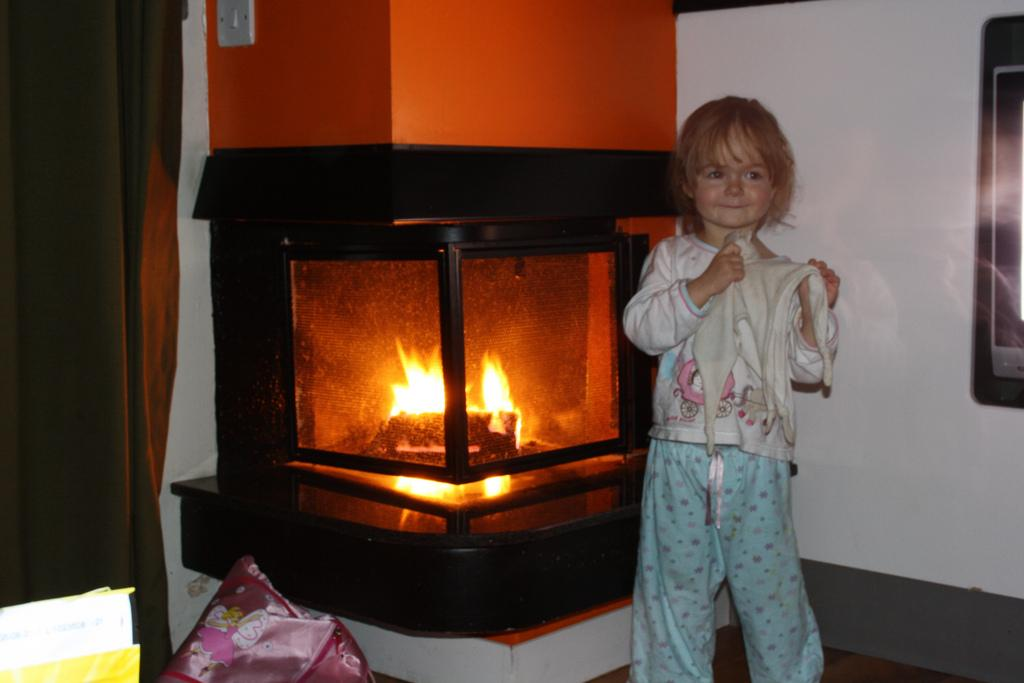fire: (393, 348, 438, 418), (478, 352, 520, 415)
